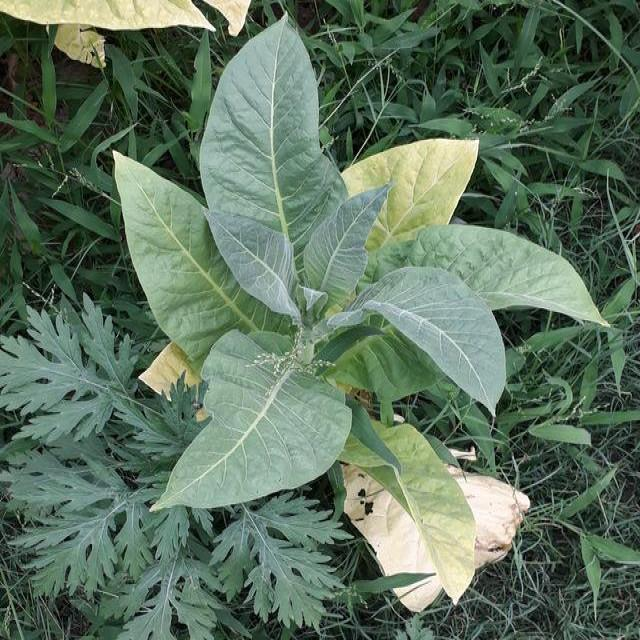crop: (107, 29, 596, 582)
